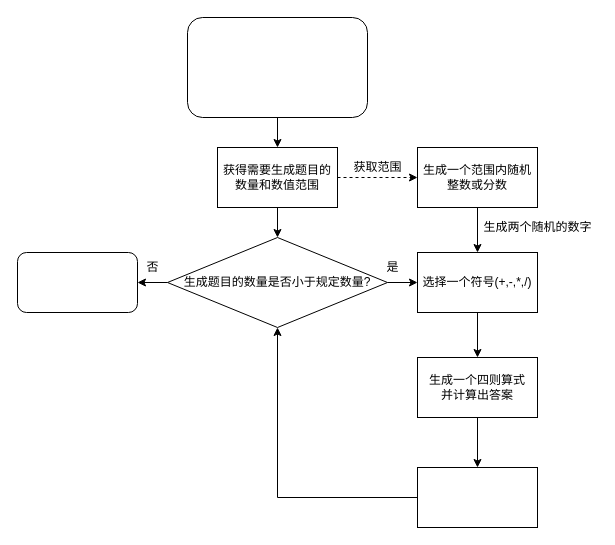
Image size: 615x545. Some labels were removed from this diagram. Each missing label, with the centre of its shape:
将生成的题目和答案 分别写入.txt文件: the point at 477,497
生成题目算式函数: the point at 277,67
结束运行: the point at 77,282
